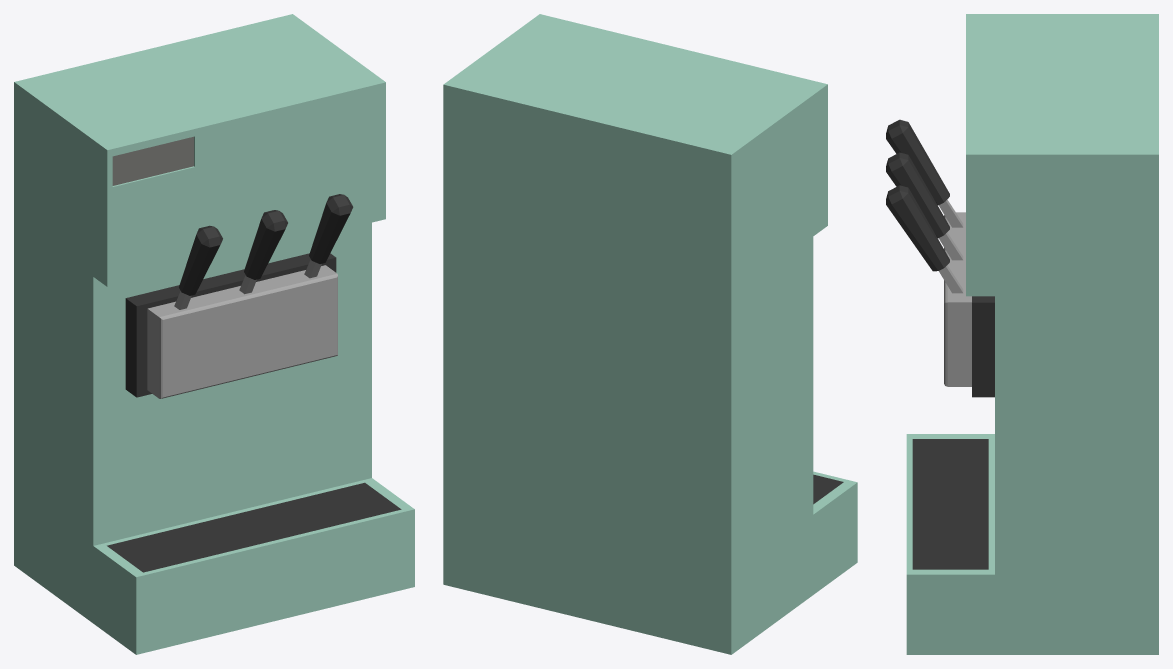
File: Ice_cream_machine.fbx
3 renders of one model, left to right at view 1: azimuth 30°, elevation 25°; view 2: azimuth 150°, elevation 25°; view 3: azimuth 270°, elevation 25°, orthographic. The views are drawn at different scales.
Visible parts, largest first — view 1: Ice_cream_machine; view 2: Ice_cream_machine; view 3: Ice_cream_machine.
Boxes of the visible parts, x1,y1,x2,y2 form: Ice_cream_machine: [14, 14, 414, 654]; Ice_cream_machine: [443, 14, 857, 654]; Ice_cream_machine: [886, 14, 1158, 654].
Size of the model in its own units: 63.85 by 106 by 52.36.
